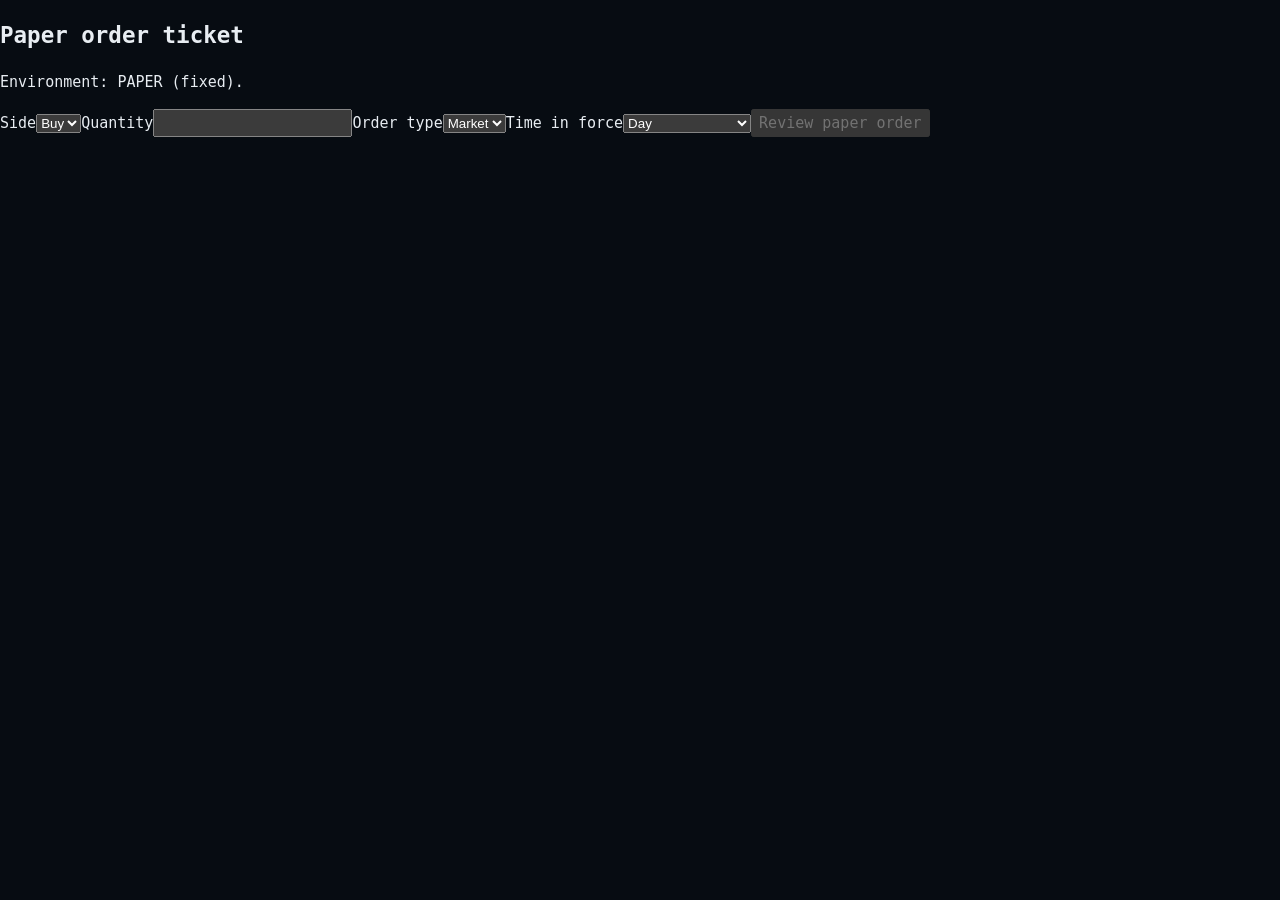
Test case: PaperOrderTicketView › does not submit a created order unless the server returned the CREATED draft state
In the field labelled "Quantity": (253,123) [153,109,352,137], type "1"
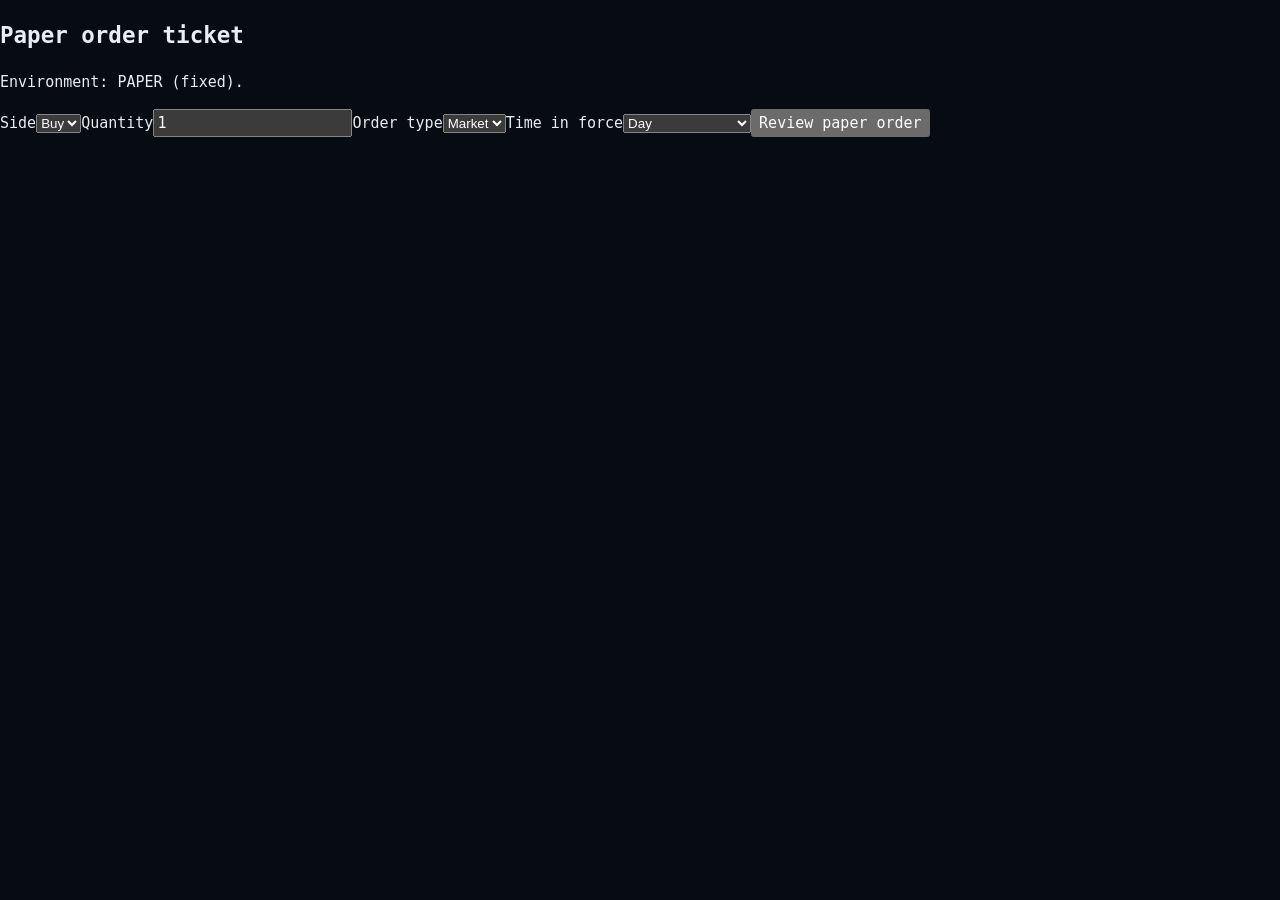
Click the button "Review paper order": (840,123) [751,109,930,137]
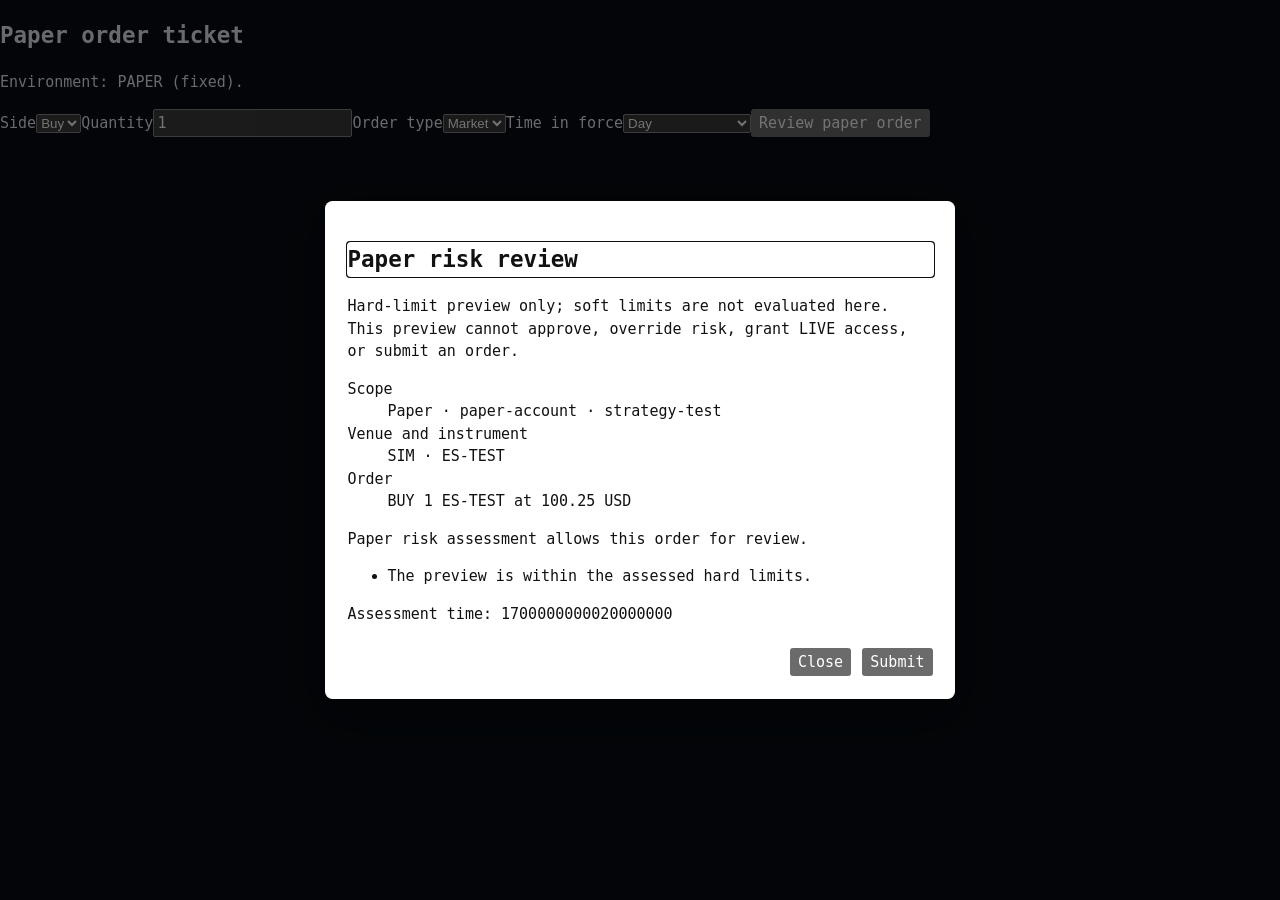
Check: the dialog "Paper risk review" is shown, box [325,202,955,699]
Check: the button "Submit" is enabled
Click the button "Submit": (897,662) [862,648,932,676]
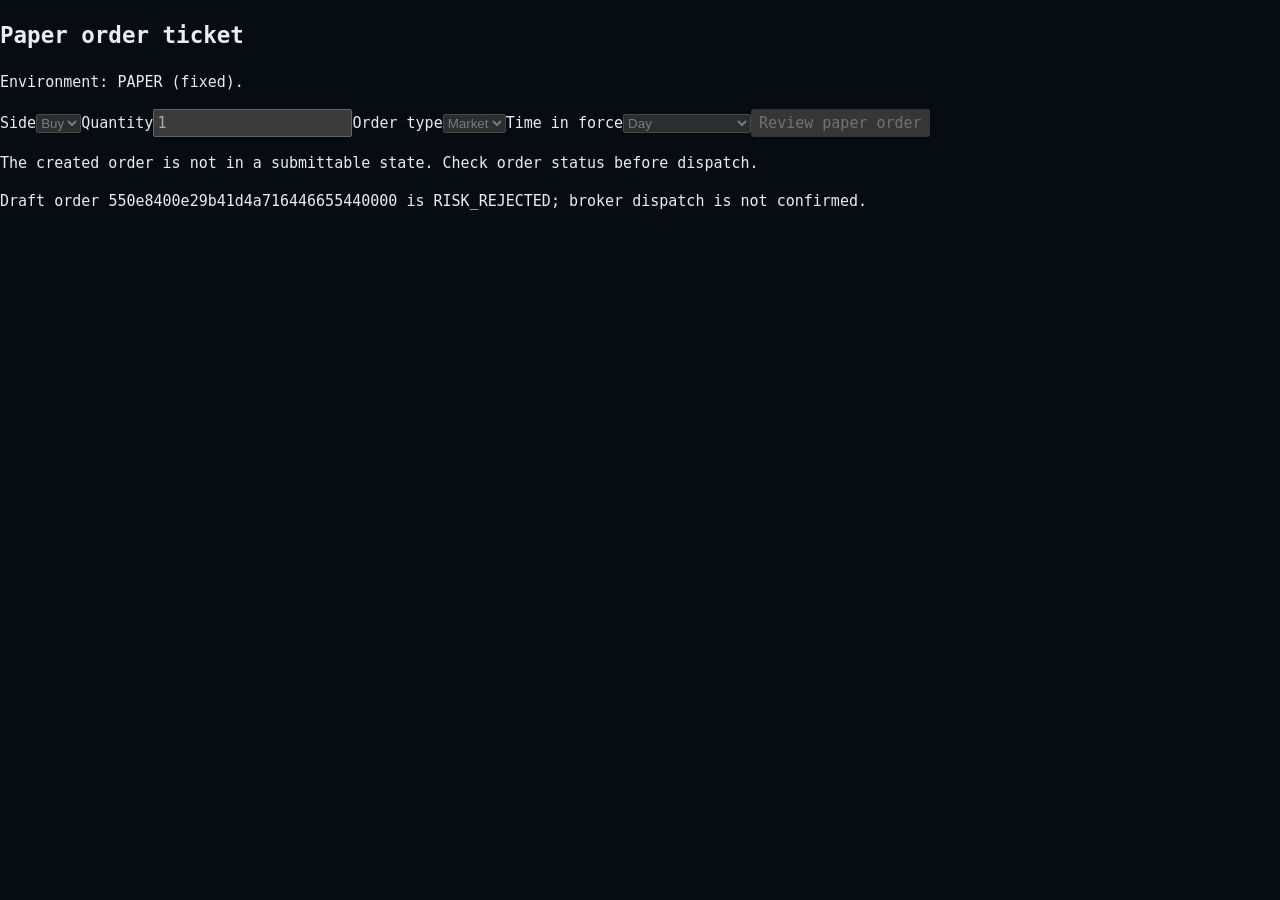
Check: the 1st message shows "not in a submittable state", box [0,154,759,172]
